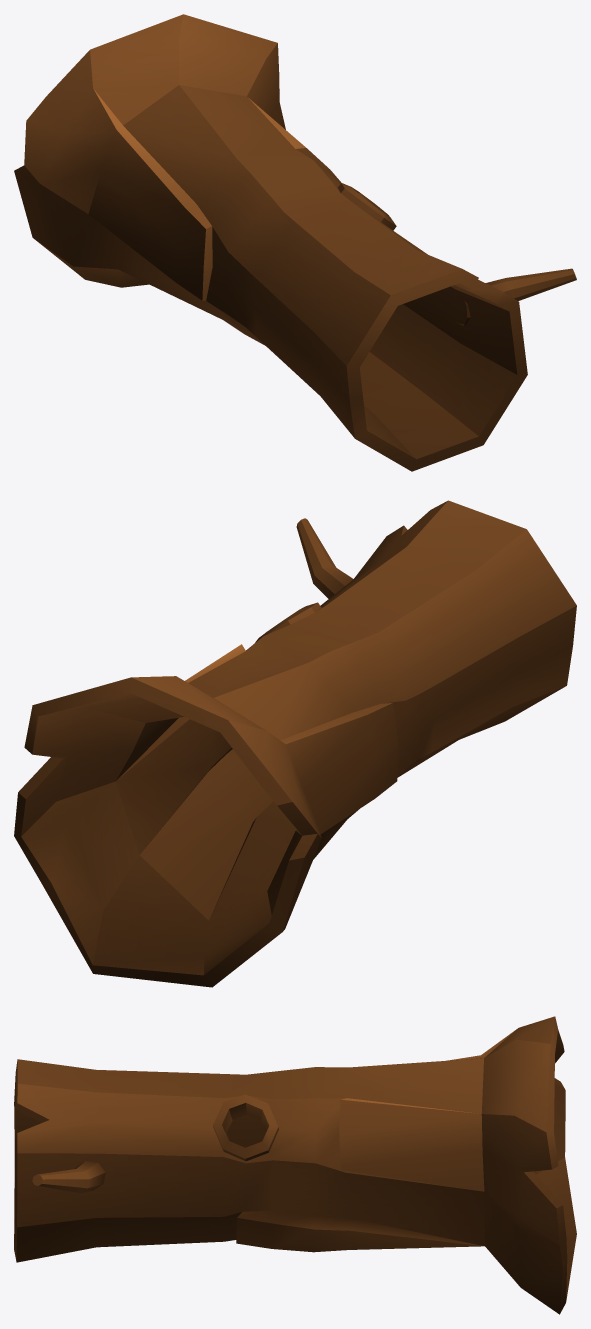
File: Stump-3.fbx
3 views of the same model, one above another, from view 1: azimuth 30°, elevation 25°; view 2: azimuth 150°, elevation 25°; view 3: azimuth 270°, elevation 25° (orthographic). The views are drawn at different scales.
Parts seen in each view (by area): view 1: Stump-3; view 2: Stump-3; view 3: Stump-3.
Boxes of the visible parts, x1,y1,x2,y2 form: Stump-3: [14, 14, 576, 471]; Stump-3: [14, 500, 576, 987]; Stump-3: [14, 1016, 576, 1314].
Bounding box in the file's own units: 324 × 298 × 591.
